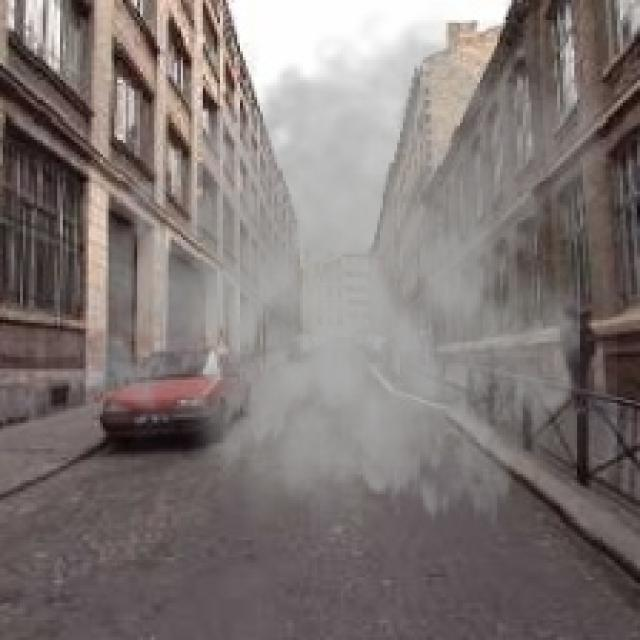smoke: (89, 0, 617, 563)
